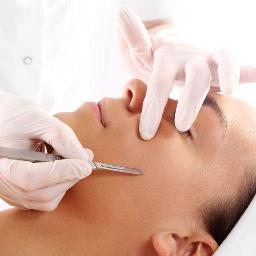scalpel: (0, 147, 144, 175)
